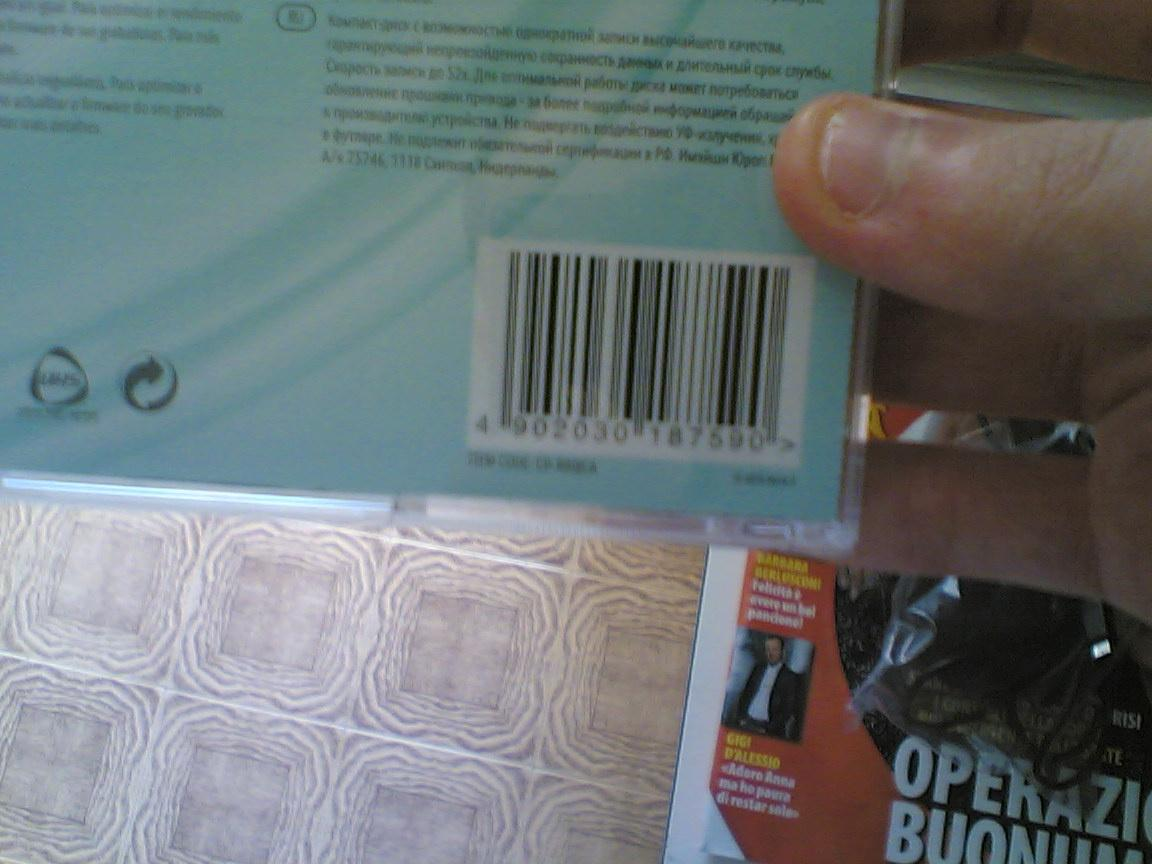Barcode: (463, 238, 820, 472)
